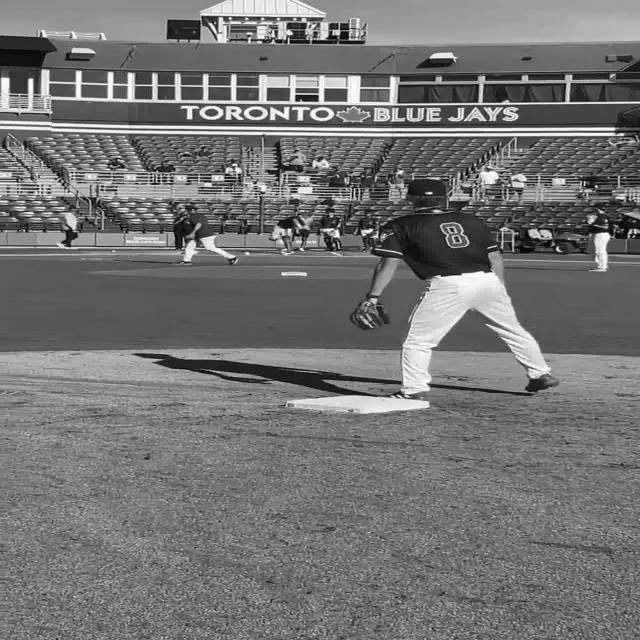base: (290, 397, 429, 410)
baseball_glove: (349, 299, 389, 330)
shoe: (524, 373, 558, 392), (380, 391, 429, 402), (226, 255, 238, 265), (588, 267, 606, 272), (171, 261, 192, 265), (56, 242, 70, 248)
